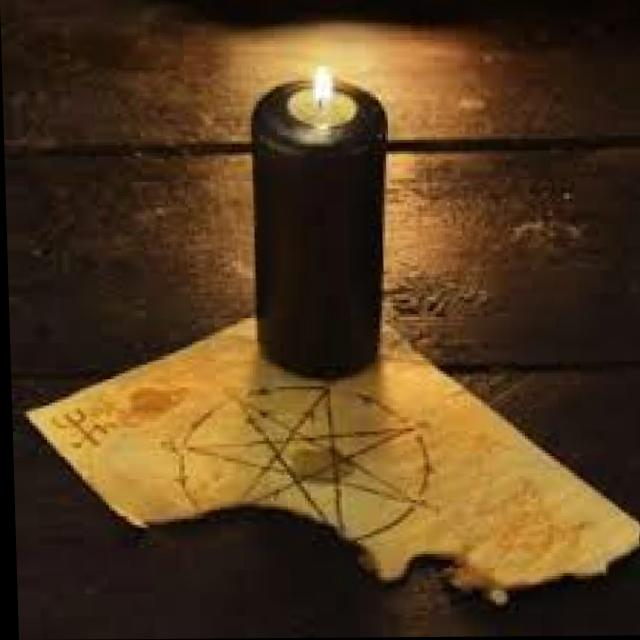fire: (294, 61, 347, 113)
